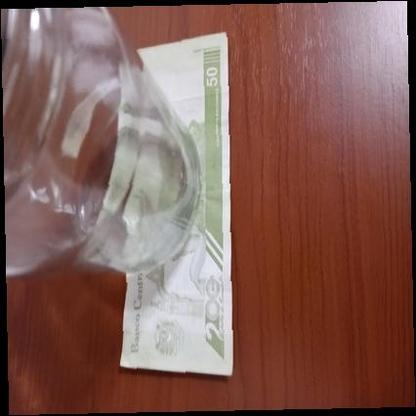vef_back: (118, 32, 231, 376)
